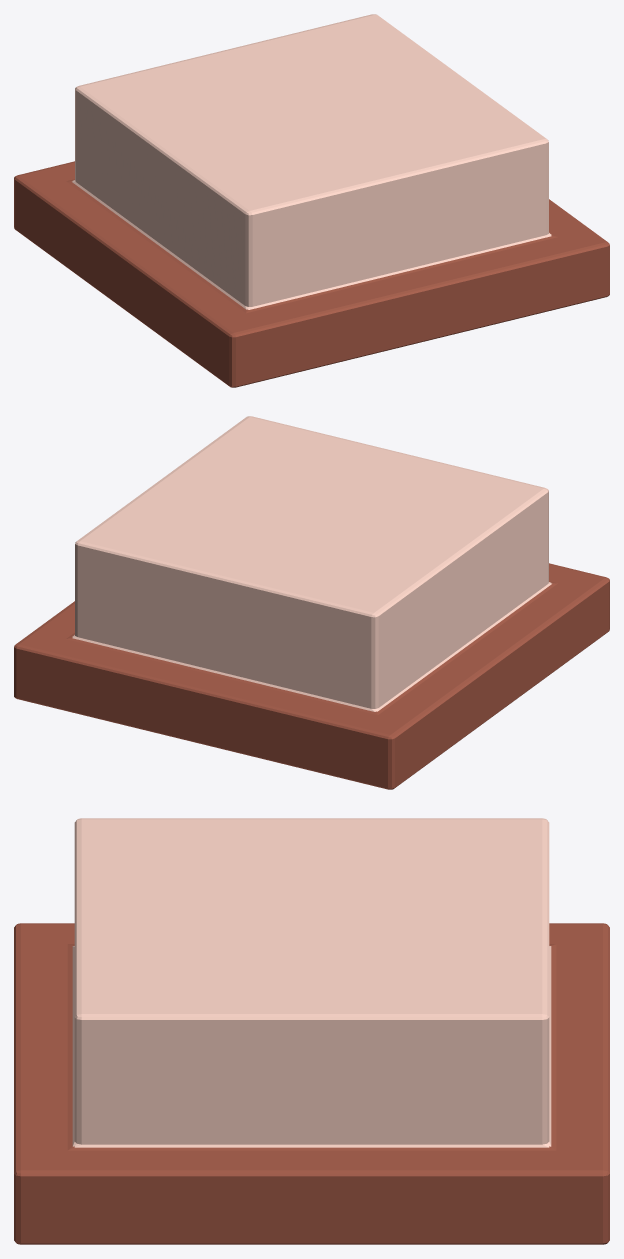
The model's file is item-stand4.fbx.
The picture shows the model from 3 angles, top to bottom: view 1: azimuth 30°, elevation 25°; view 2: azimuth 150°, elevation 25°; view 3: azimuth 270°, elevation 25°; orthographic projection. The views are drawn at different scales.
Parts seen in each view (by area): view 1: Cube.007; view 2: Cube.007; view 3: Cube.007.
Boxes of the visible parts, <box> form: Cube.007: <box>14,14,609,387</box>; Cube.007: <box>14,416,609,789</box>; Cube.007: <box>14,818,609,1244</box>.
Bounding box in the file's own units: 647 × 244 × 647.
